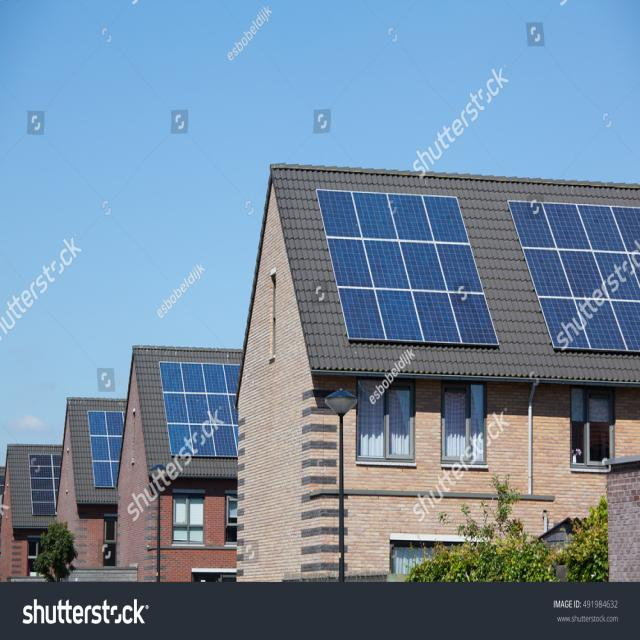clean-solar-panel: (316, 189, 498, 346), (509, 201, 640, 352), (161, 361, 238, 456)
